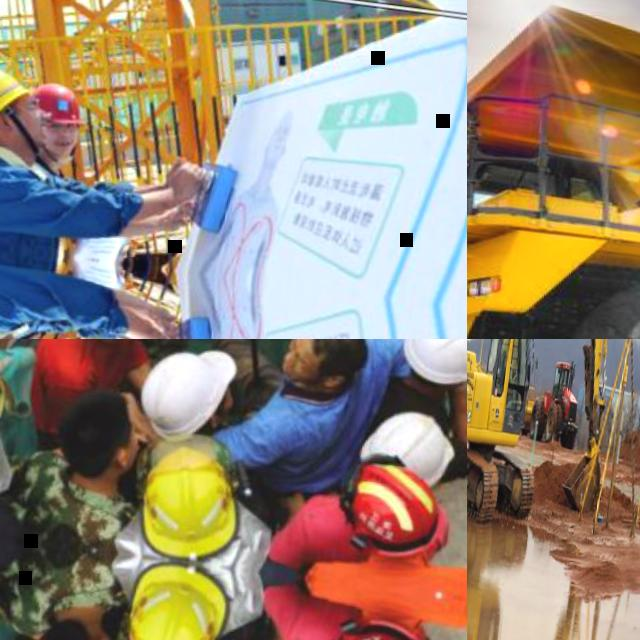Hardhat: (125, 438, 258, 574), (130, 339, 245, 454), (344, 459, 440, 554), (123, 561, 230, 640), (355, 401, 455, 485), (388, 339, 467, 397), (0, 59, 31, 142), (29, 81, 88, 123), (0, 354, 12, 465), (328, 626, 423, 640)
NO-Hardhat: (59, 389, 133, 471), (306, 339, 372, 372), (35, 623, 104, 640)
NO-Mask: (21, 108, 48, 143), (276, 356, 304, 385), (43, 132, 77, 155), (119, 440, 139, 469)
NO-Safety Vest: (266, 357, 384, 502), (27, 339, 147, 432), (0, 549, 119, 636), (11, 471, 120, 564), (295, 499, 378, 576), (0, 155, 55, 266), (0, 226, 51, 336), (376, 353, 443, 432), (280, 589, 379, 640)
Person: (0, 58, 213, 250), (210, 339, 425, 513), (17, 82, 207, 243), (1, 382, 151, 563), (263, 450, 460, 584), (0, 239, 201, 339), (26, 339, 196, 446), (0, 257, 182, 339), (357, 339, 467, 462), (0, 541, 136, 640), (130, 339, 244, 456), (251, 580, 439, 640)
vehicle: (467, 0, 640, 339), (467, 339, 633, 528), (519, 355, 585, 447)
